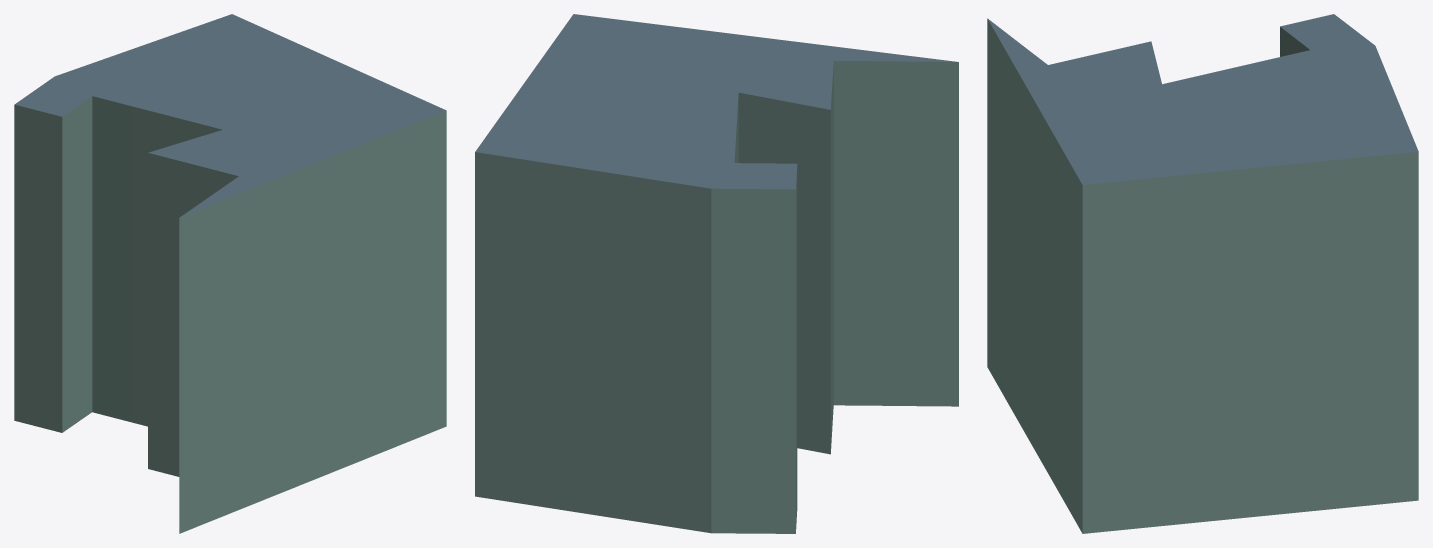
The model's file is nyc-1022562-0.glb.
3 views of the same model, side by side, from view 1: azimuth 30°, elevation 25°; view 2: azimuth 150°, elevation 25°; view 3: azimuth 270°, elevation 25° (orthographic). The views are drawn at different scales.
Visible parts, largest first — view 1: nyc-1022562-0; view 2: nyc-1022562-0; view 3: nyc-1022562-0.
Part boxes in pixels (x1,y1,x2,y2): nyc-1022562-0: (14, 14, 446, 533); nyc-1022562-0: (475, 14, 958, 533); nyc-1022562-0: (987, 14, 1418, 533).
Bounding box in the file's own units: 24.2 × 22.99 × 25.78.
